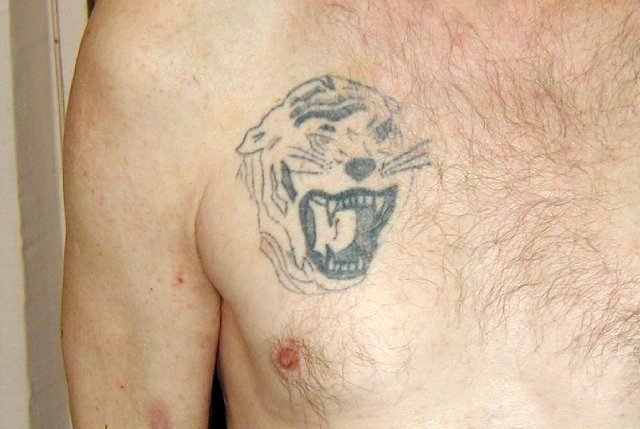tatu5_tigr: (227, 55, 431, 317)
